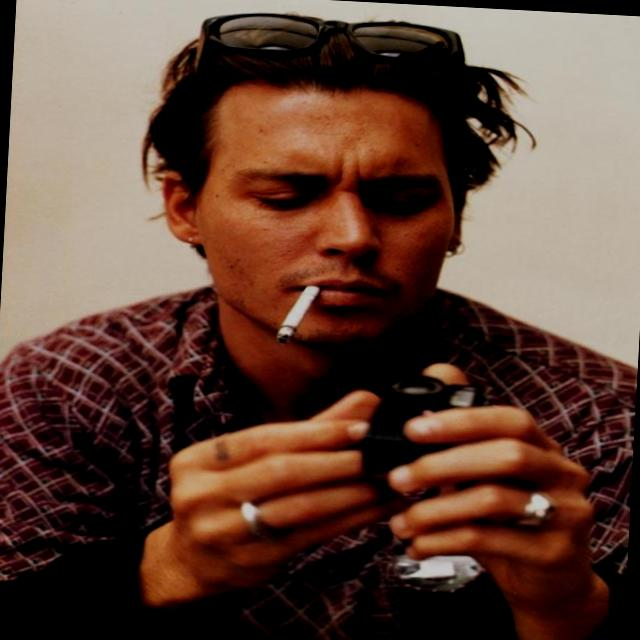smoke: (246, 270, 328, 362)
